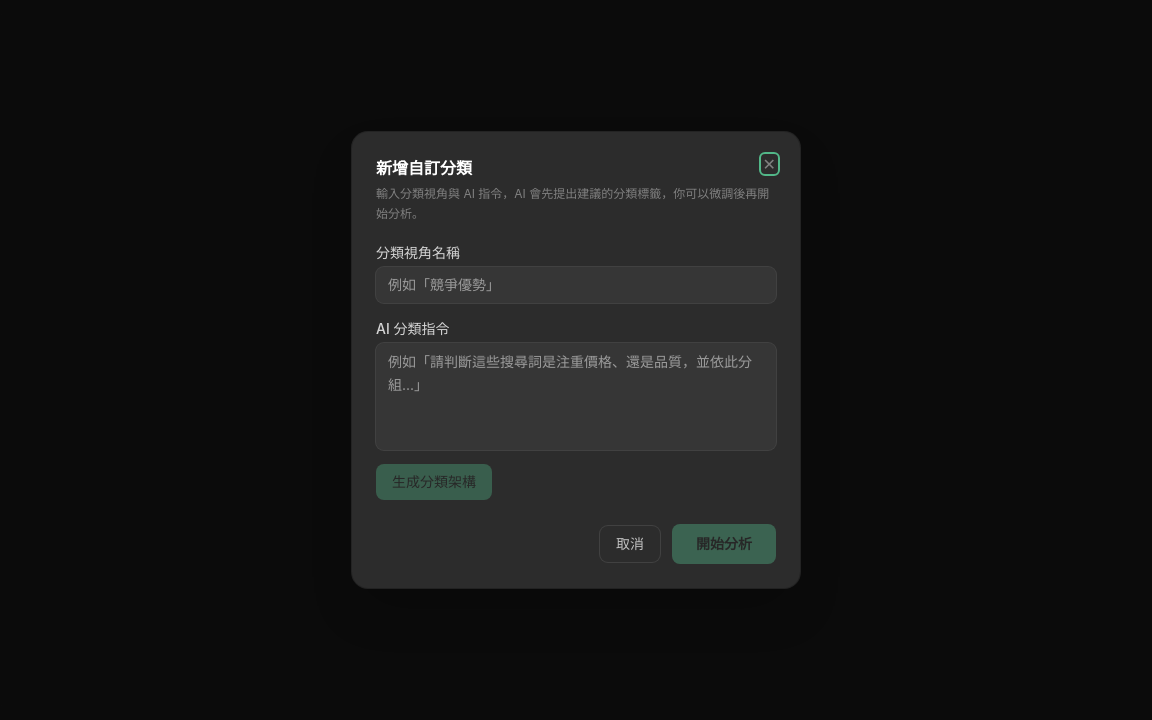
Test case: TC-26 · CustomClassifyModal (stage one) › lets the user add a label by hand (Enter), de-duplicated against existing chips
Step 1. Type "競爭優勢" into the field labelled "分類視角名稱" → (576, 285), box [376, 267, 776, 303]
Step 2. Type "請依價格 vs 品質分組" into the text box labelled "AI 分類指令" → (576, 396), box [376, 343, 776, 450]
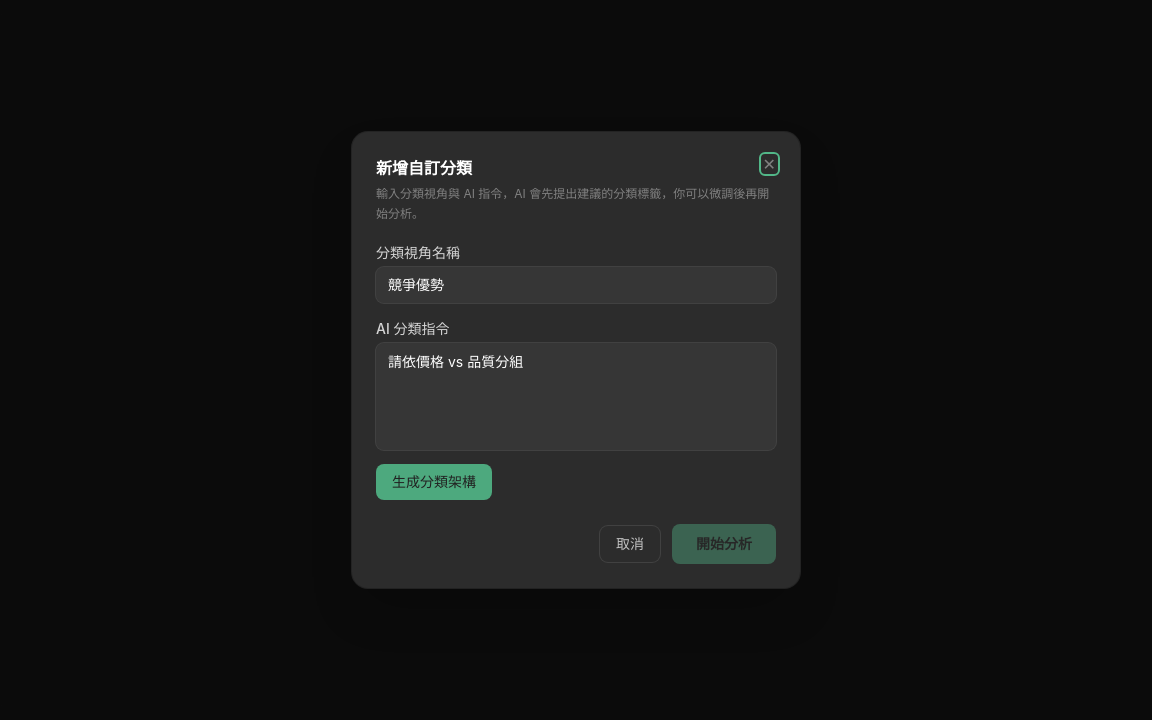
Step 3. Click the button "生成分類架構" → click(434, 482), box [376, 464, 492, 500]
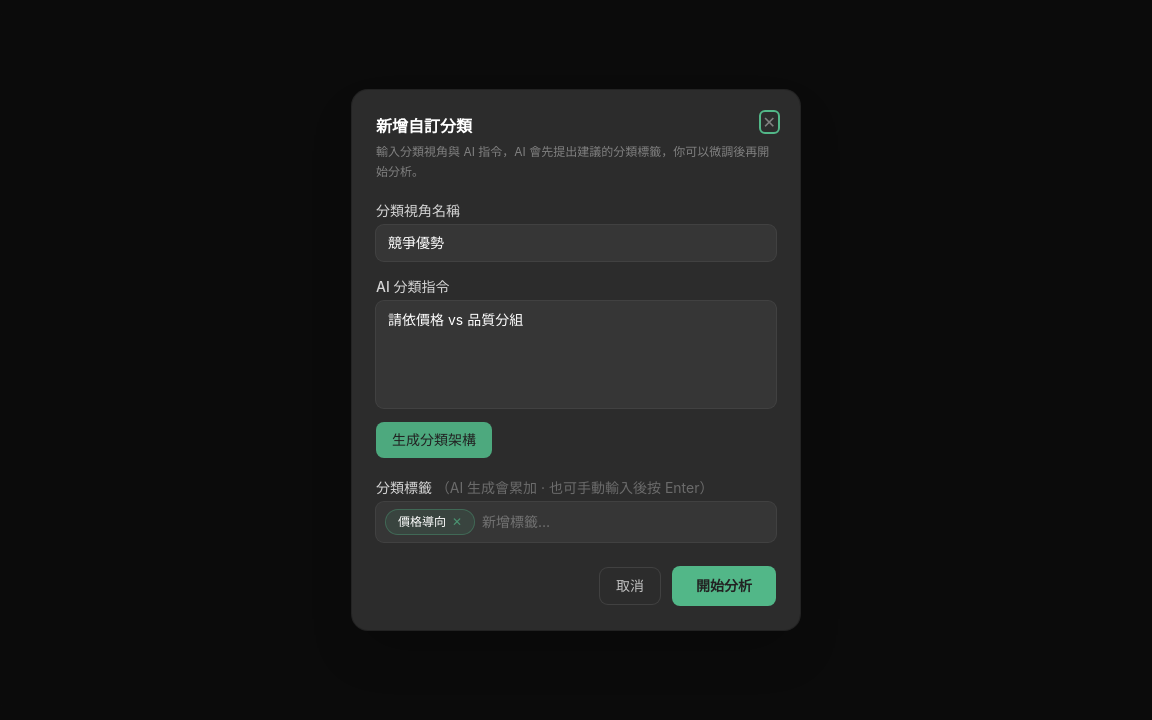
Expected: the text "價格導向" is shown, [398, 514, 446, 529]
Step 4. Type "價格導向" into the field labelled "新增標籤" → (624, 522), box [482, 512, 766, 532]
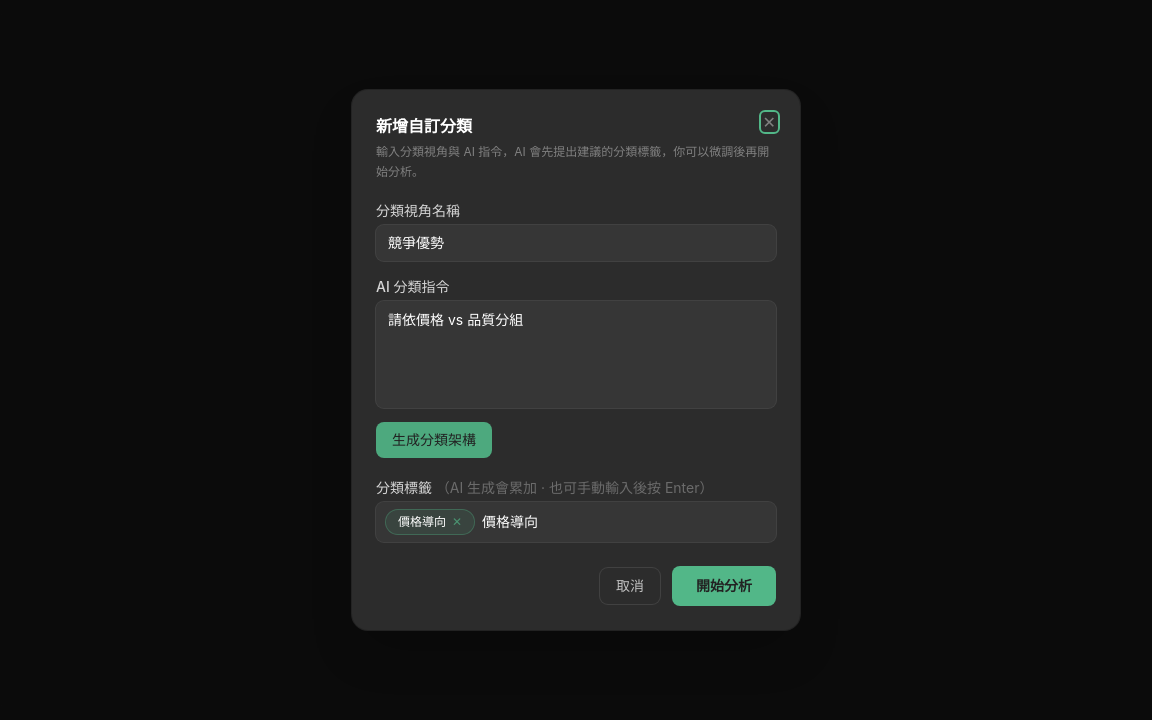
Step 5. Press Enter in the field named "新增標籤", box [482, 512, 766, 532]
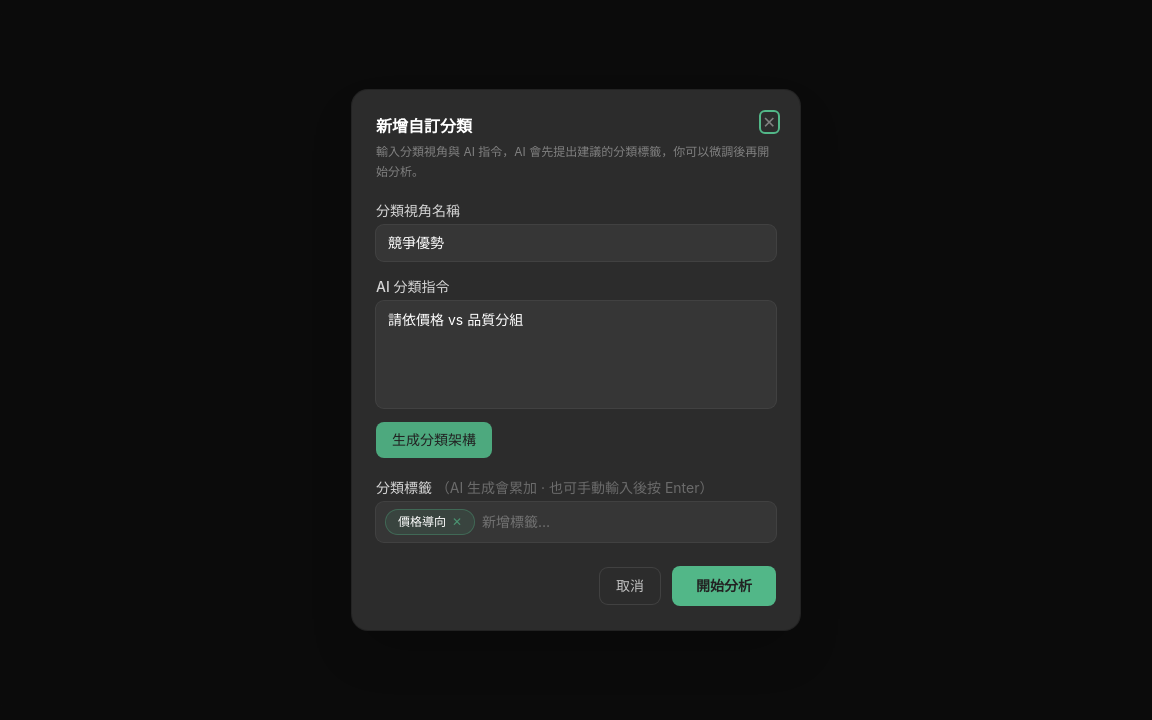
Expected: the text "價格導向" is shown once, [386, 510, 474, 534]
Step 6. Type "售後服務" into the field labelled "新增標籤" → (624, 522), box [482, 512, 766, 532]
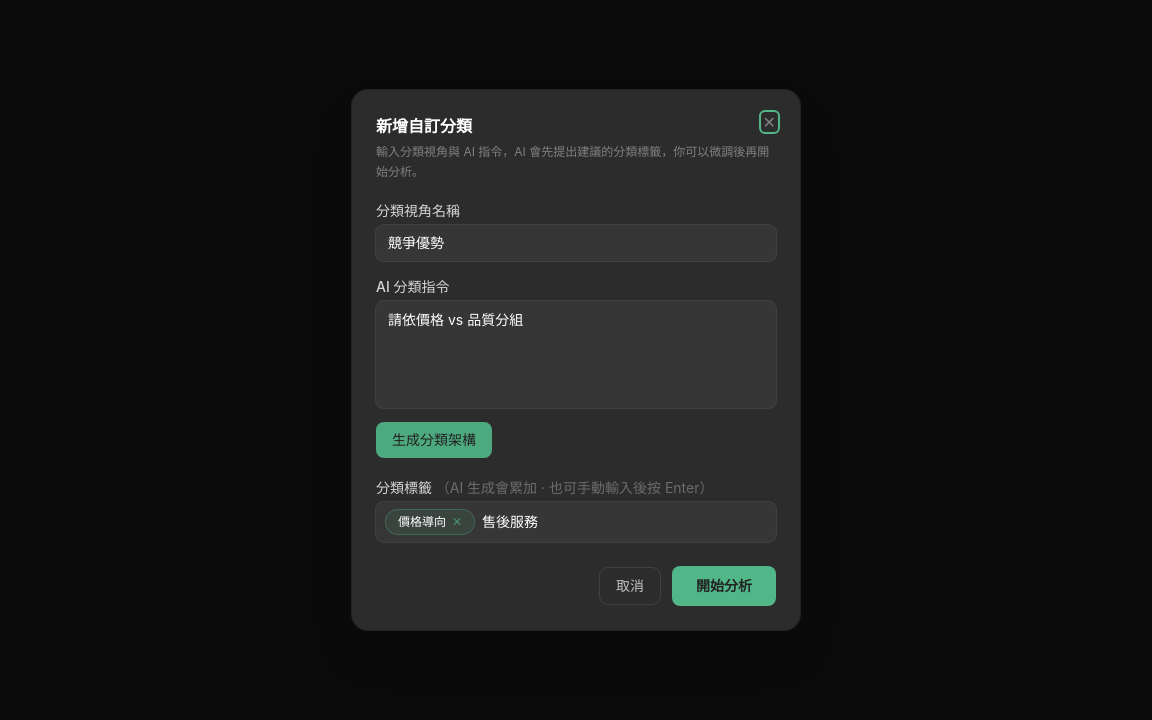
Step 7. Press Enter in the field named "新增標籤", box [482, 512, 766, 532]
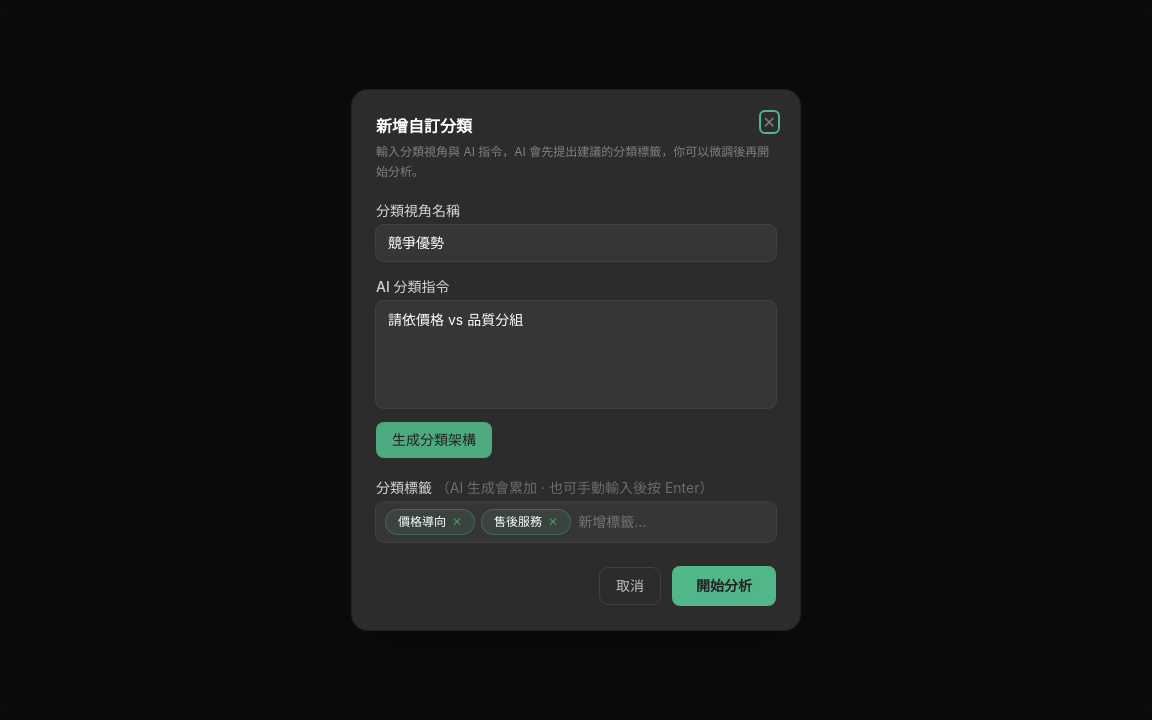
Expected: the text "售後服務" is shown, [494, 514, 542, 529]
